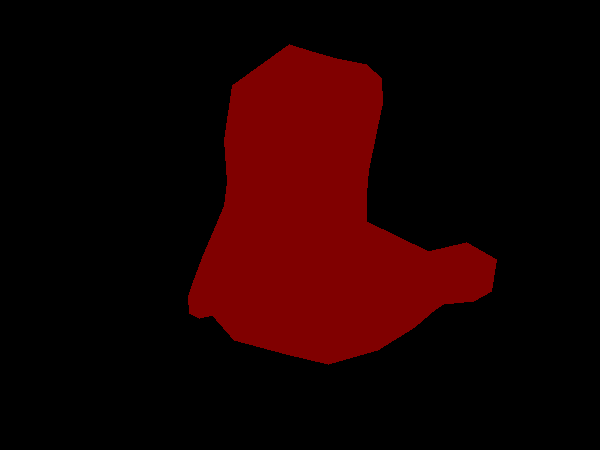fire: (188, 44, 496, 364)
